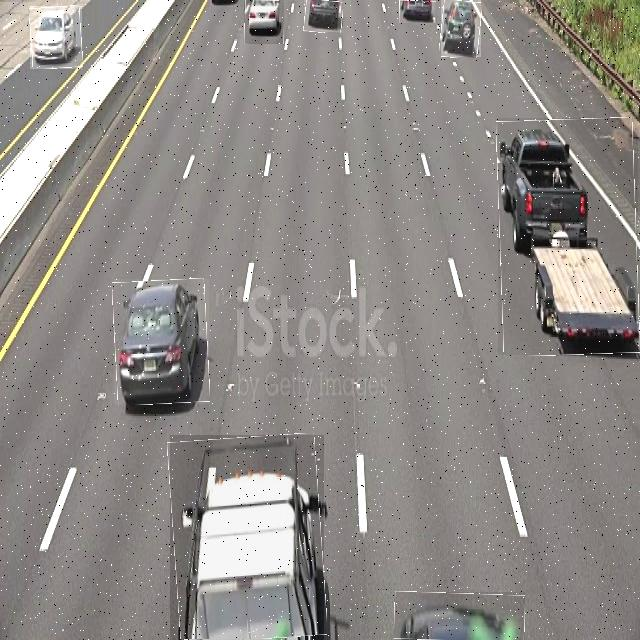Car: (114, 279, 209, 404), (394, 592, 525, 640), (30, 6, 82, 69), (441, 0, 481, 57), (244, 0, 284, 44), (304, 0, 342, 32), (399, 0, 435, 23)
Truck: (498, 118, 638, 355), (170, 435, 324, 640)
